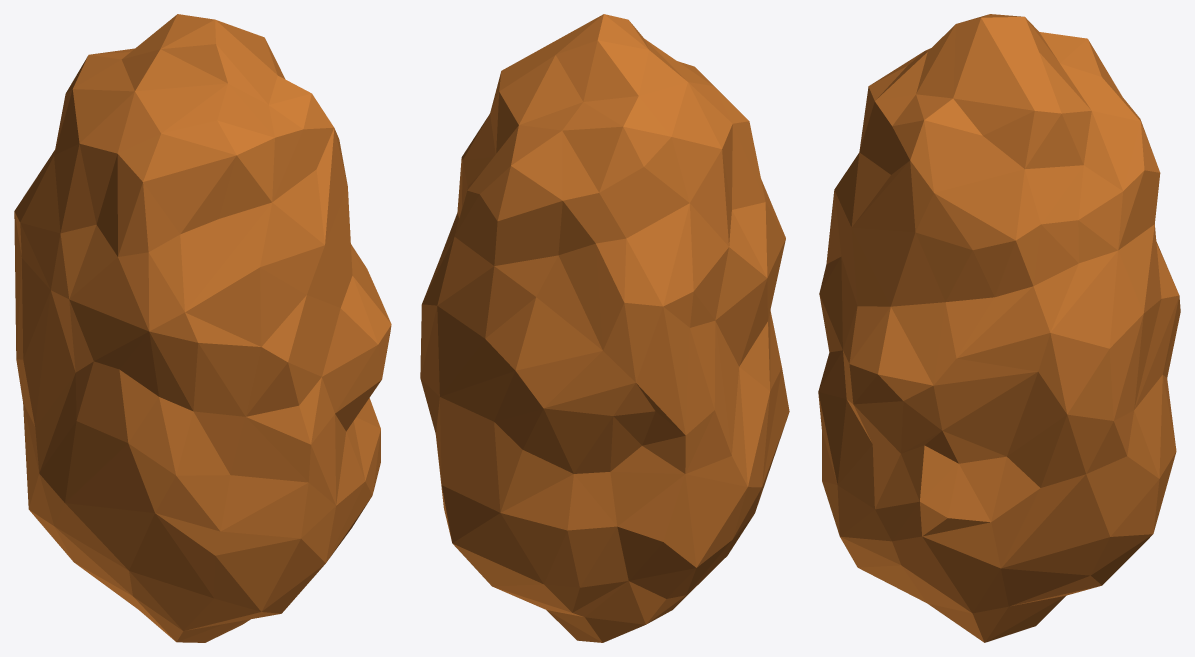
Rendered from orangeTop.glb.
The picture shows the model from 3 angles, left to right: view 1: azimuth 30°, elevation 25°; view 2: azimuth 150°, elevation 25°; view 3: azimuth 270°, elevation 25°; orthographic projection.
Visible parts, largest first — view 1: topOrange; view 2: topOrange; view 3: topOrange.
Boxes of the visible parts, x1,y1,x2,y2 form: topOrange: (14, 14, 391, 642); topOrange: (420, 14, 789, 642); topOrange: (818, 14, 1180, 642).
Size of the model in its own units: 8.2 by 16.13 by 8.52.
